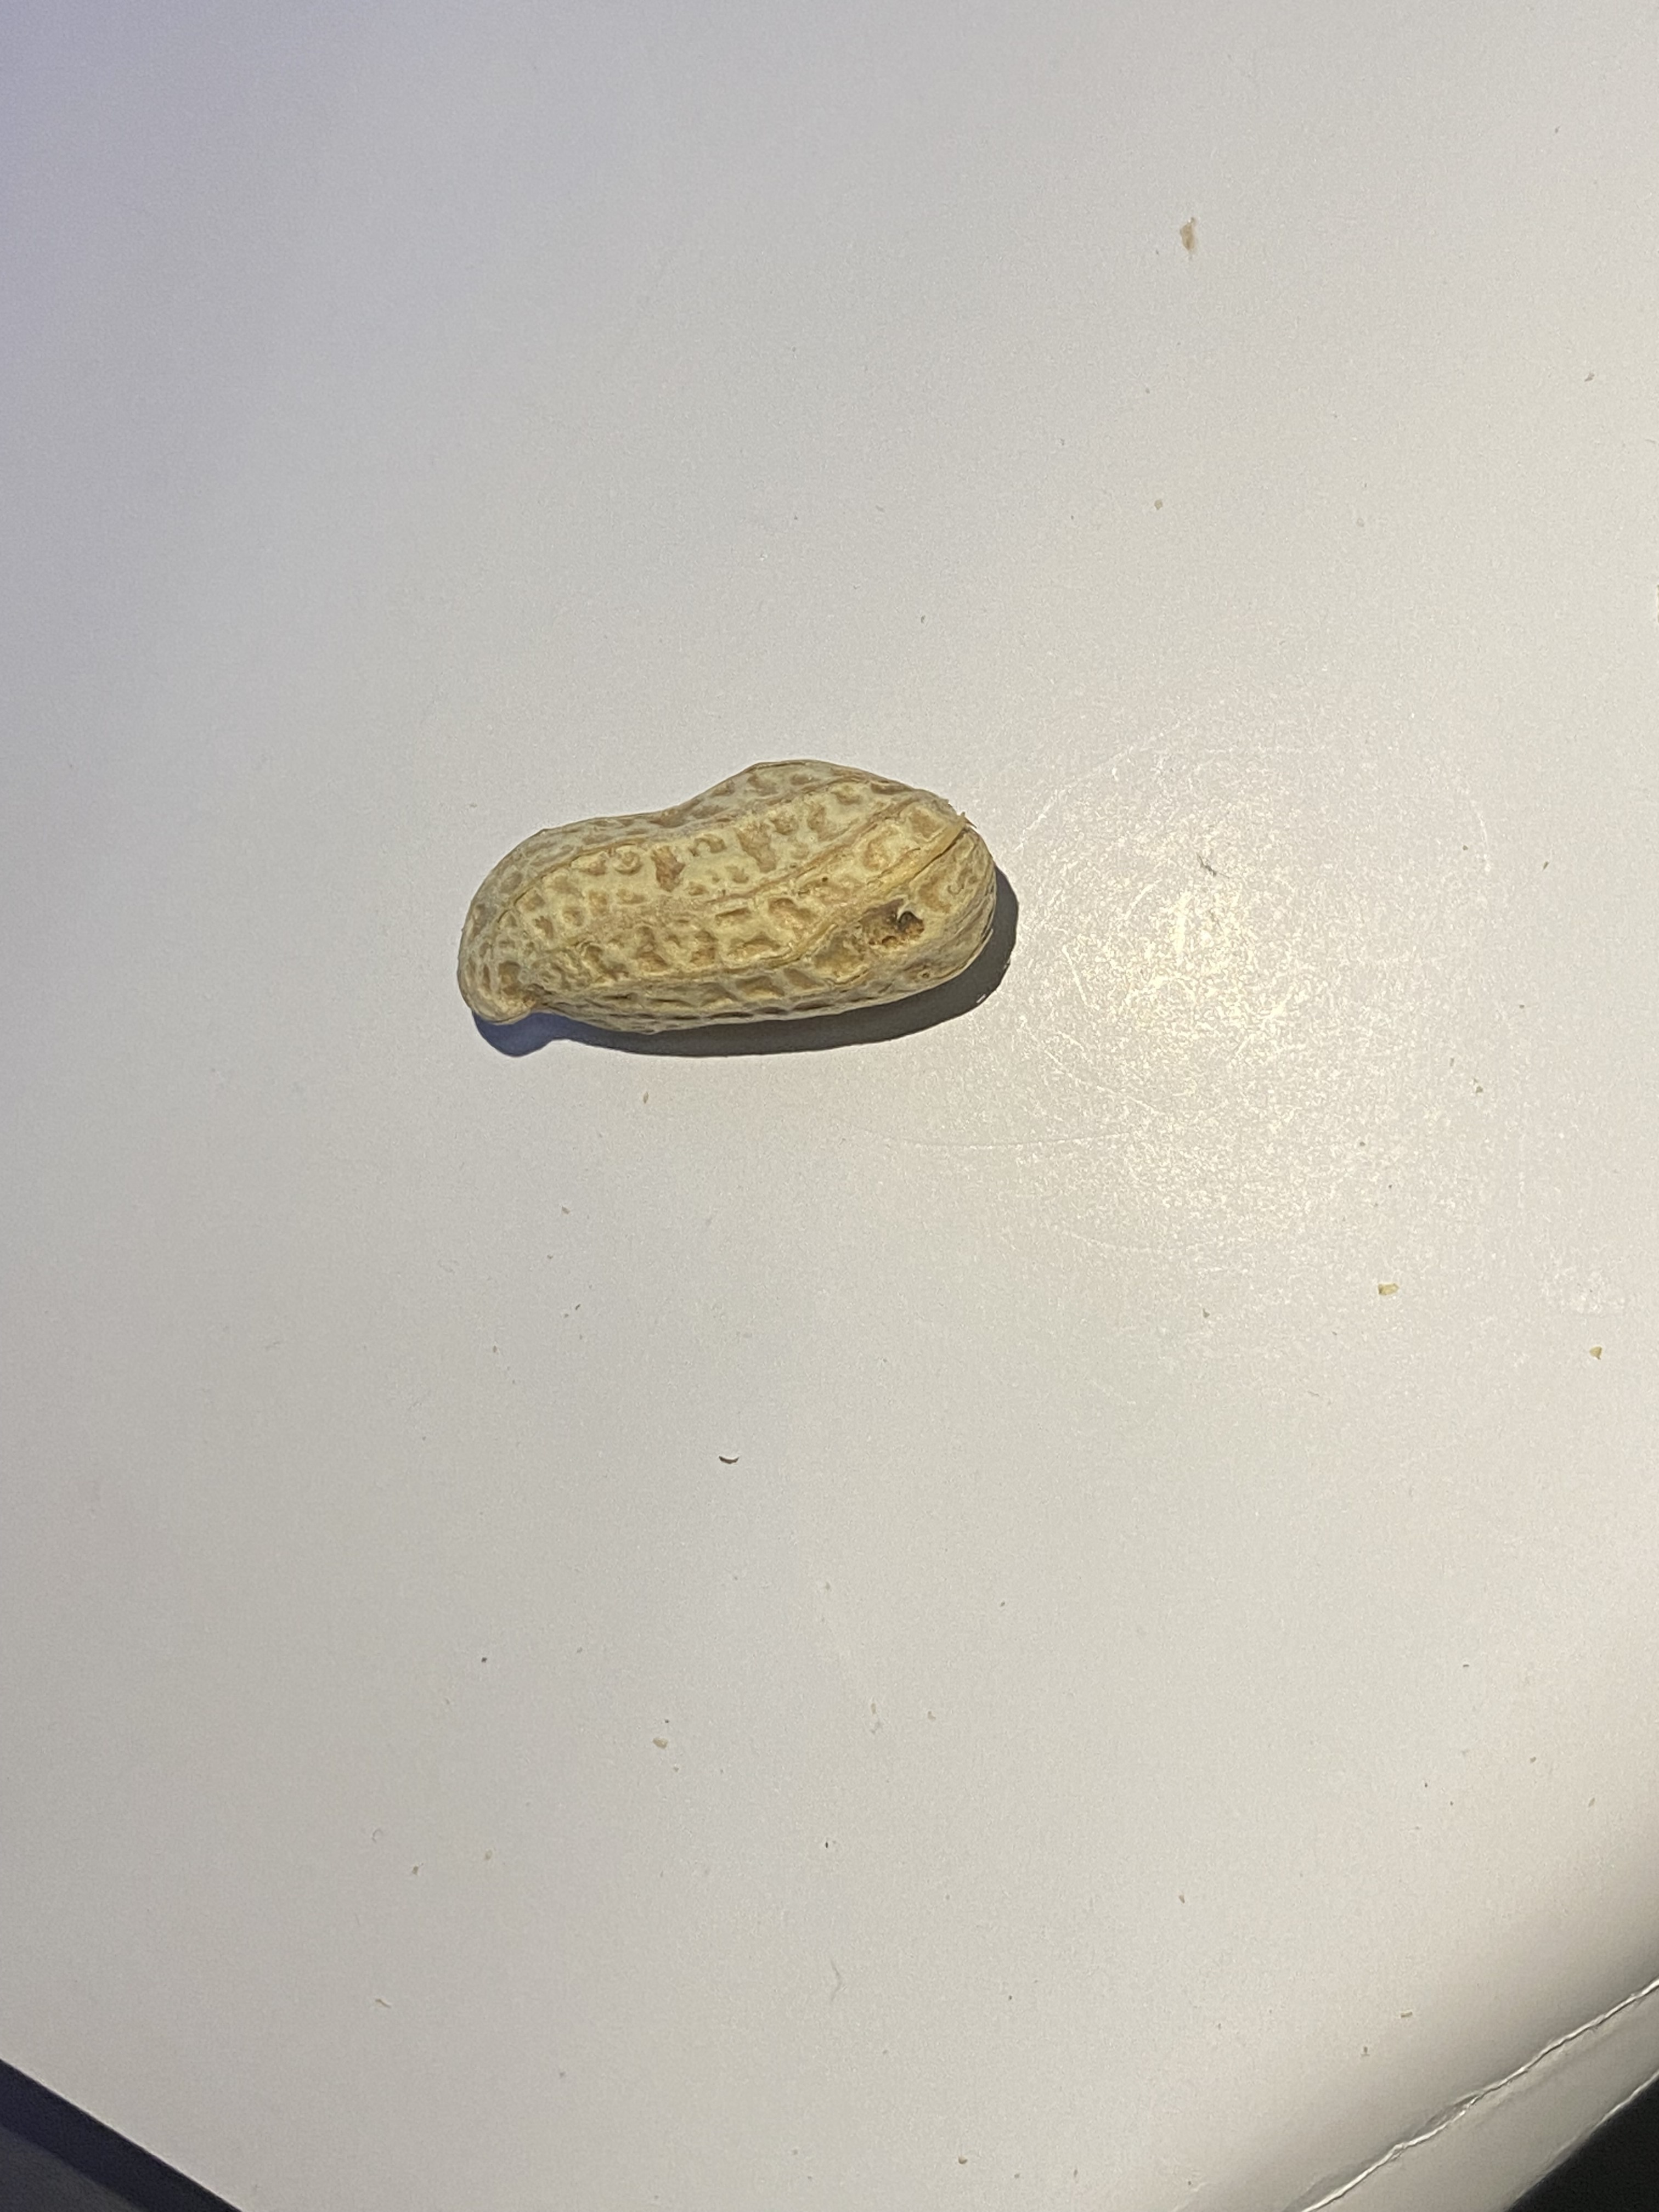kacang2: (429, 738, 1033, 1057)
